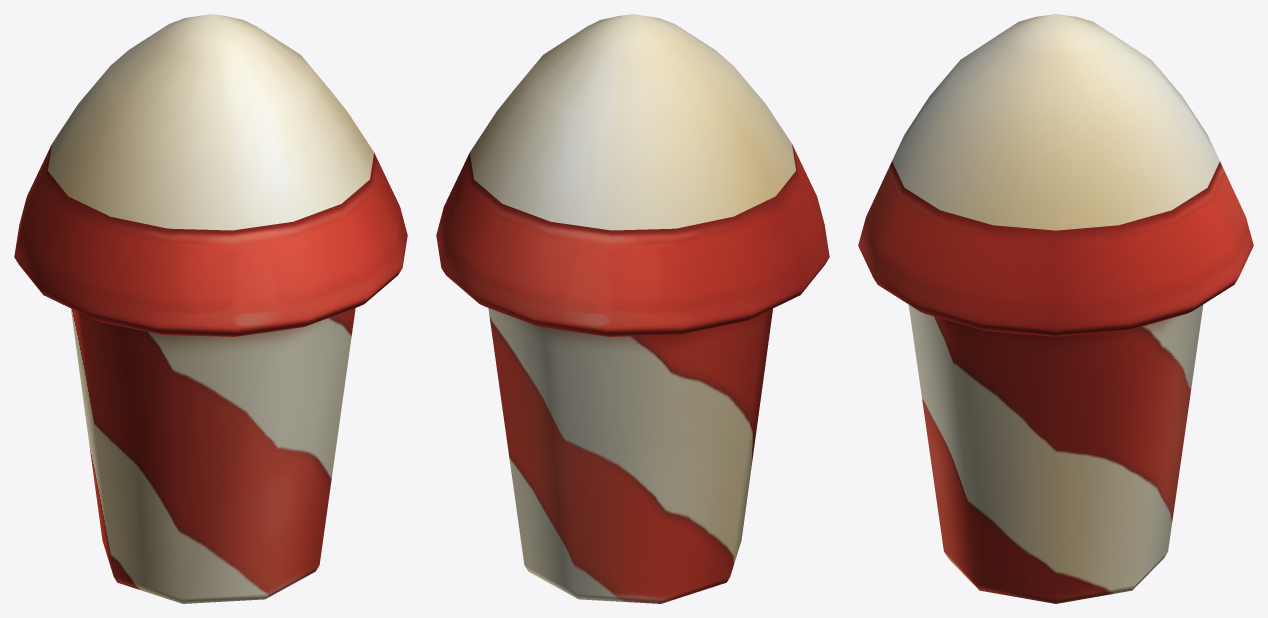
File: Rocket.fbx
3 renders of one model, left to right at view 1: azimuth 30°, elevation 25°; view 2: azimuth 150°, elevation 25°; view 3: azimuth 270°, elevation 25°, orthographic.
Visible parts, largest first — view 1: rocket; view 2: rocket; view 3: rocket.
Part boxes in pixels (bbox=[...]): rocket: bbox=[14, 14, 407, 603]; rocket: bbox=[436, 14, 829, 603]; rocket: bbox=[858, 14, 1253, 603].
Size of the model in its own units: 0.5618 by 0.8568 by 0.5618.
